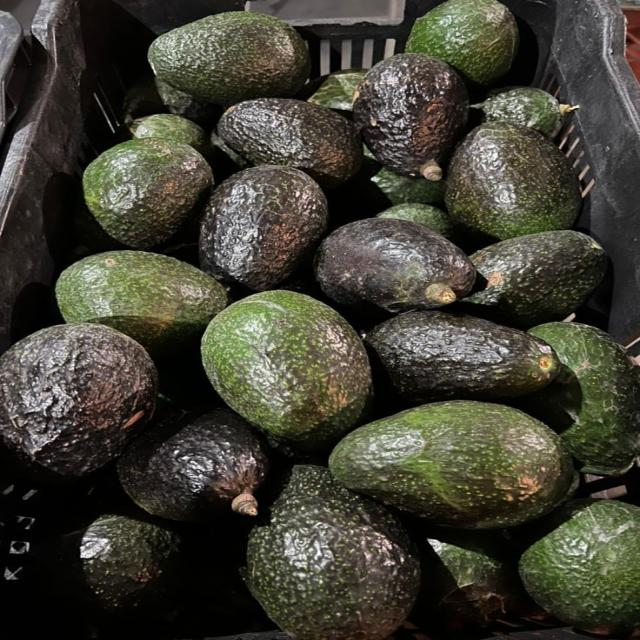avocado: (329, 401, 573, 528), (246, 465, 419, 639), (202, 291, 371, 451), (0, 324, 157, 480), (56, 251, 228, 354), (365, 312, 559, 403), (527, 323, 639, 475), (118, 410, 268, 520), (520, 500, 639, 637), (200, 165, 327, 290), (446, 122, 581, 239), (148, 12, 310, 105), (315, 218, 475, 312), (83, 138, 212, 249), (354, 54, 467, 180), (465, 230, 608, 327), (218, 99, 362, 186), (414, 527, 522, 627), (73, 514, 181, 613), (406, 0, 519, 84), (123, 75, 219, 128), (473, 87, 576, 135), (129, 114, 210, 157), (152, 77, 219, 128), (371, 168, 446, 205), (378, 204, 453, 238), (308, 69, 366, 111), (210, 132, 250, 173)
